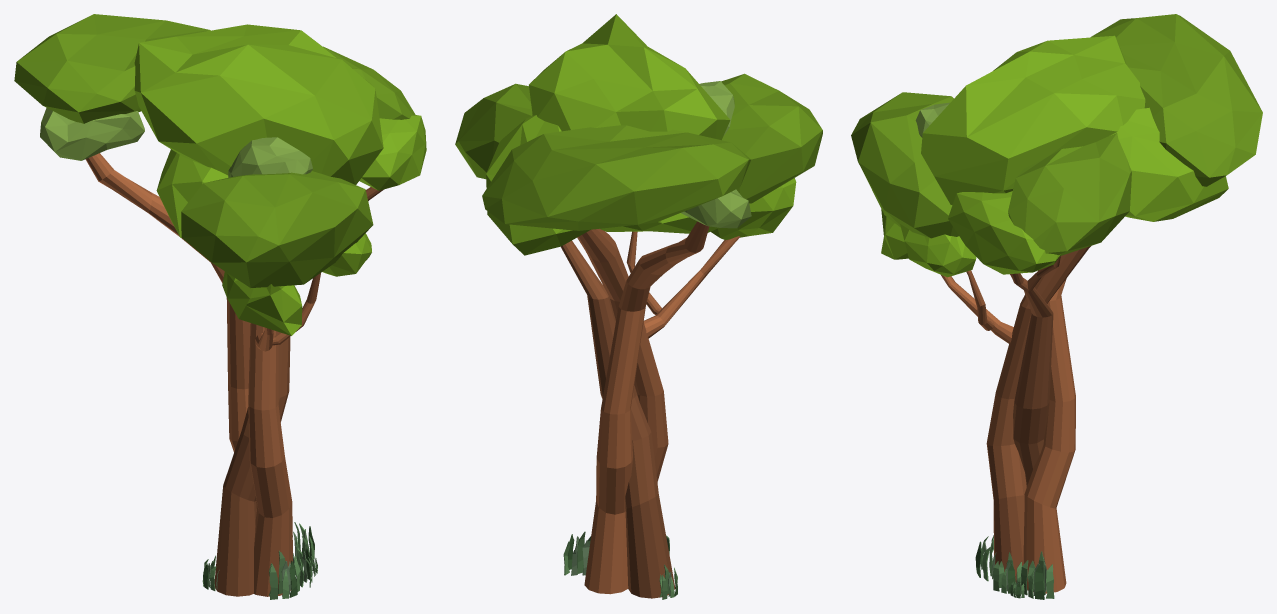
Rendered from tree_01.fbx.
3 views of the same model, side by side, from view 1: azimuth 30°, elevation 25°; view 2: azimuth 150°, elevation 25°; view 3: azimuth 270°, elevation 25° (orthographic). The views are drawn at different scales.
Parts seen in each view (by area): view 1: Cylinder.010; view 2: Cylinder.010; view 3: Cylinder.010.
Boxes of the visible parts, left/top/right/bottom form: Cylinder.010: left=14, top=14, right=426, bottom=599; Cylinder.010: left=455, top=14, right=822, bottom=599; Cylinder.010: left=851, top=14, right=1262, bottom=599.
Bounding box in the file's own units: 5.06 × 7.75 × 5.57.
